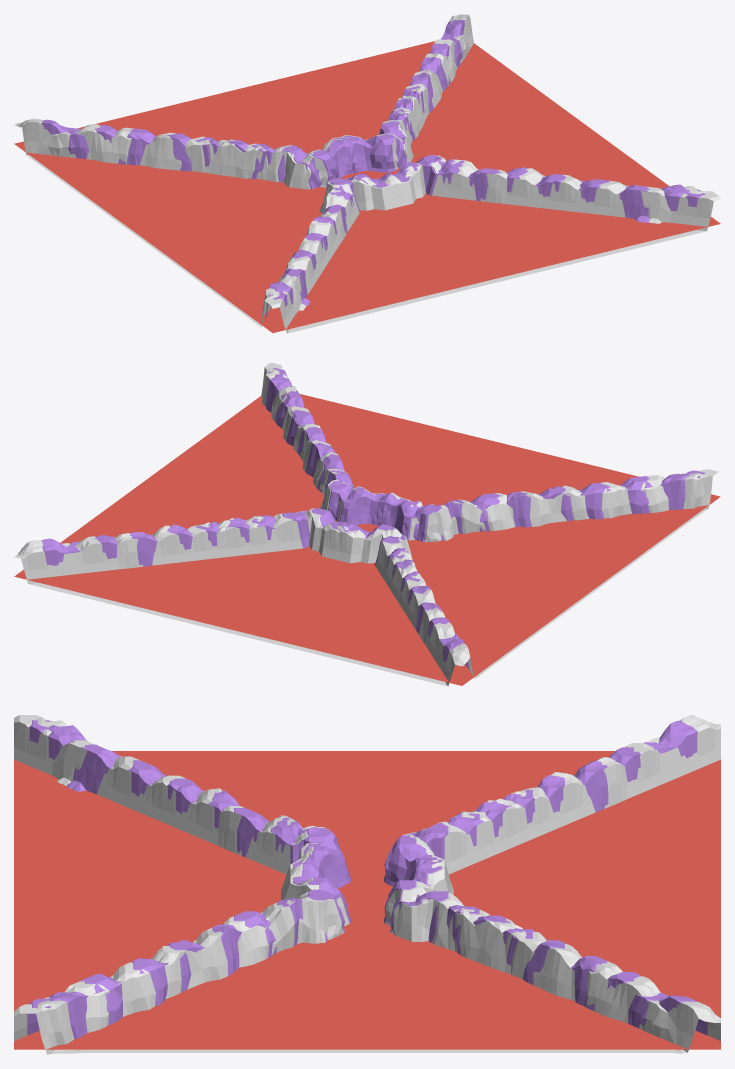
File: Map_v1.fbx
3 renders of one model, top to bottom at view 1: azimuth 30°, elevation 25°; view 2: azimuth 150°, elevation 25°; view 3: azimuth 270°, elevation 25°, orthographic. The views are drawn at different scales.
Visible parts, largest first — view 1: Land, Wall, Wall2; view 2: Land, Wall, Wall2; view 3: Land, Wall, Wall2.
Part boxes in pixels (left/top/right/bottom): Land: left=14, top=41, right=720, bottom=332; Wall: left=14, top=14, right=720, bottom=333; Wall2: left=41, top=20, right=705, bottom=318; Land: left=14, top=394, right=720, bottom=685; Wall: left=14, top=362, right=718, bottom=686; Wall2: left=41, top=367, right=704, bottom=670; Land: left=14, top=751, right=720, bottom=1049; Wall: left=14, top=715, right=720, bottom=1054; Wall2: left=27, top=720, right=707, bottom=1039.
Bounding box in the file's own units: 200 × 14.93 × 200.
